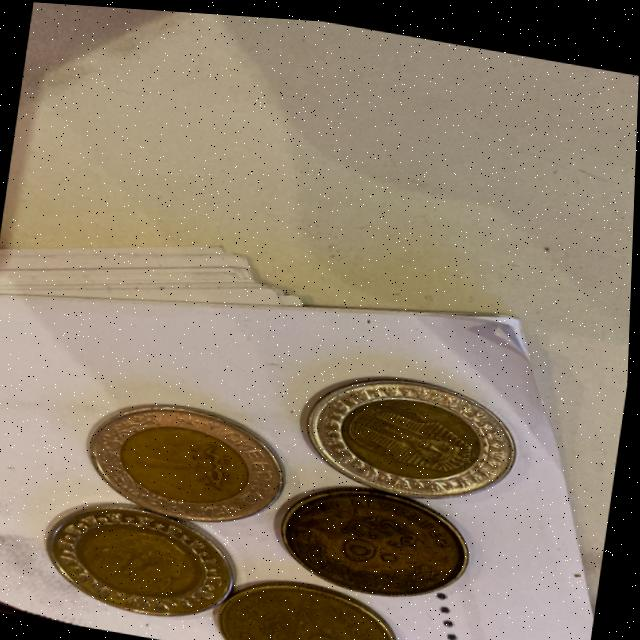Half Pound: (271, 466, 481, 603), (212, 564, 410, 640)
One Pound: (296, 358, 528, 506), (79, 386, 296, 531), (333, 361, 499, 418), (296, 469, 460, 524), (90, 526, 193, 595), (128, 478, 259, 525), (307, 547, 433, 594), (79, 495, 196, 535), (472, 414, 518, 468), (224, 598, 277, 640), (233, 458, 281, 501), (310, 405, 345, 444), (94, 451, 129, 479), (104, 465, 142, 489), (110, 420, 143, 445), (281, 500, 308, 529), (61, 530, 89, 554), (97, 443, 127, 465)
